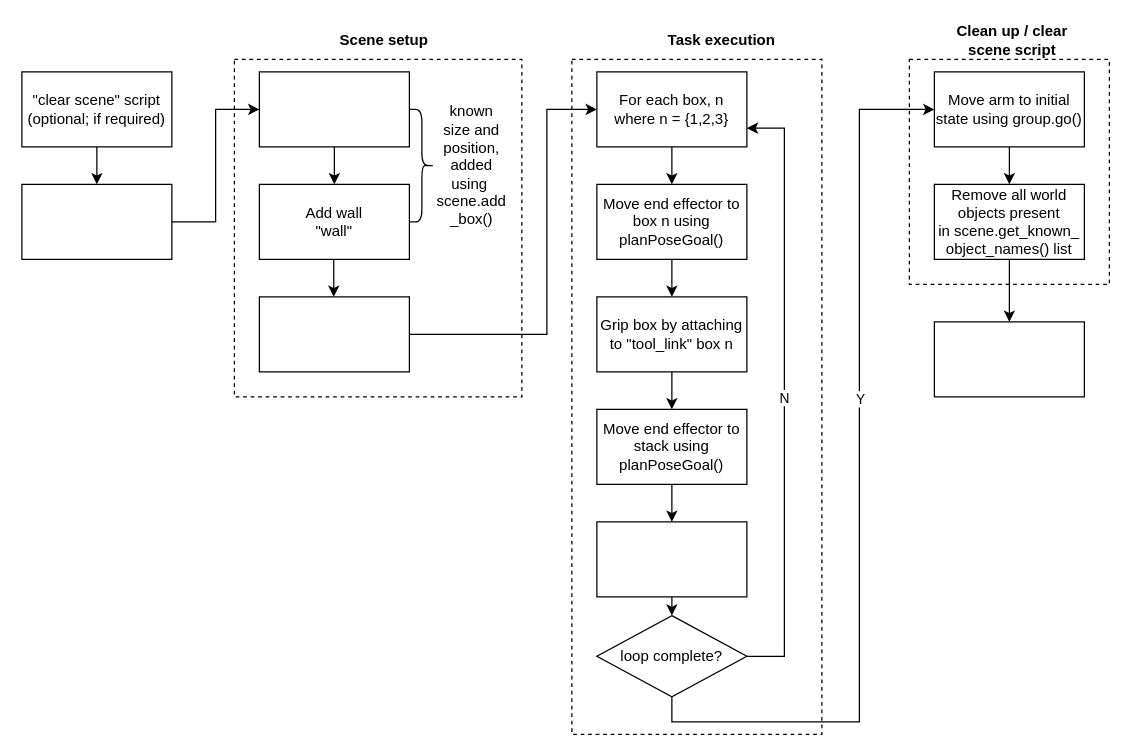
This 1131x756 diagram has some shape labels left out. Each missing label, with the centre of its shape:
Add boxes "box1", "box2", "box3": point (333, 109)
BEGIN: point (96, 221)
END: point (1008, 359)
Home robot using group.go(): point (333, 334)
Un-grip box n: point (671, 559)
